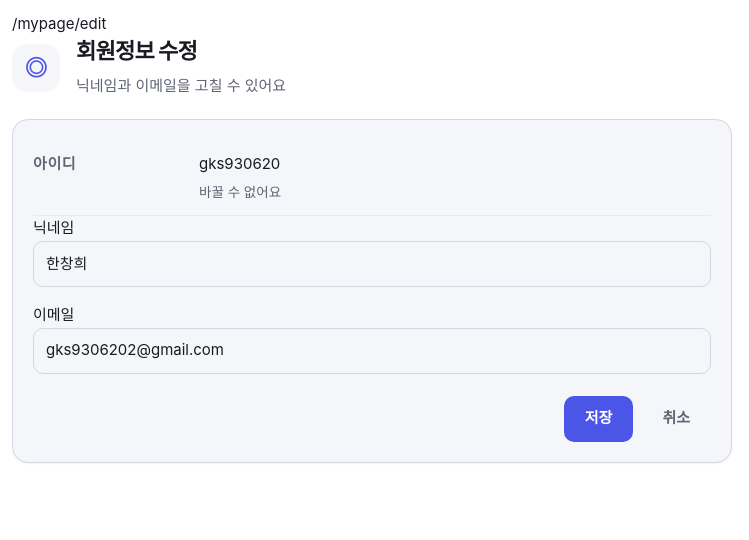
Test: 회원정보 수정 — 검증 (AC-A-07·08·09) › 이메일 형식이 아니면 저장 요청이 나가지 않는다
Replace the text in the field labelled "이메일" with "not-an-email": (372, 351) [33,328,711,374]
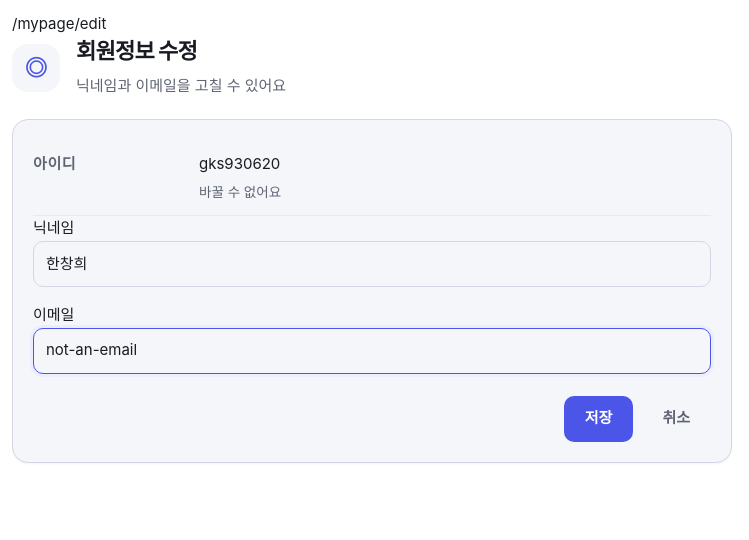
Click the button "저장": (599, 419) [564,396,633,442]
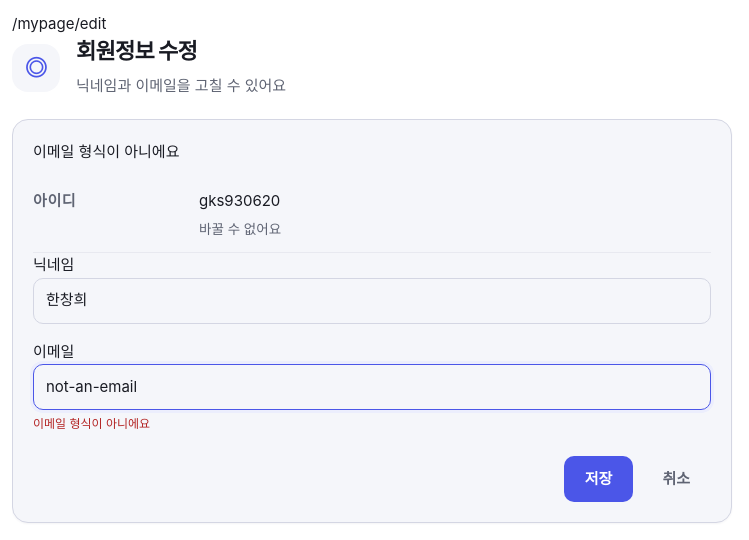
expect the message "이메일 형식이 아니에요" is shown: met, box [33,142,180,161]
